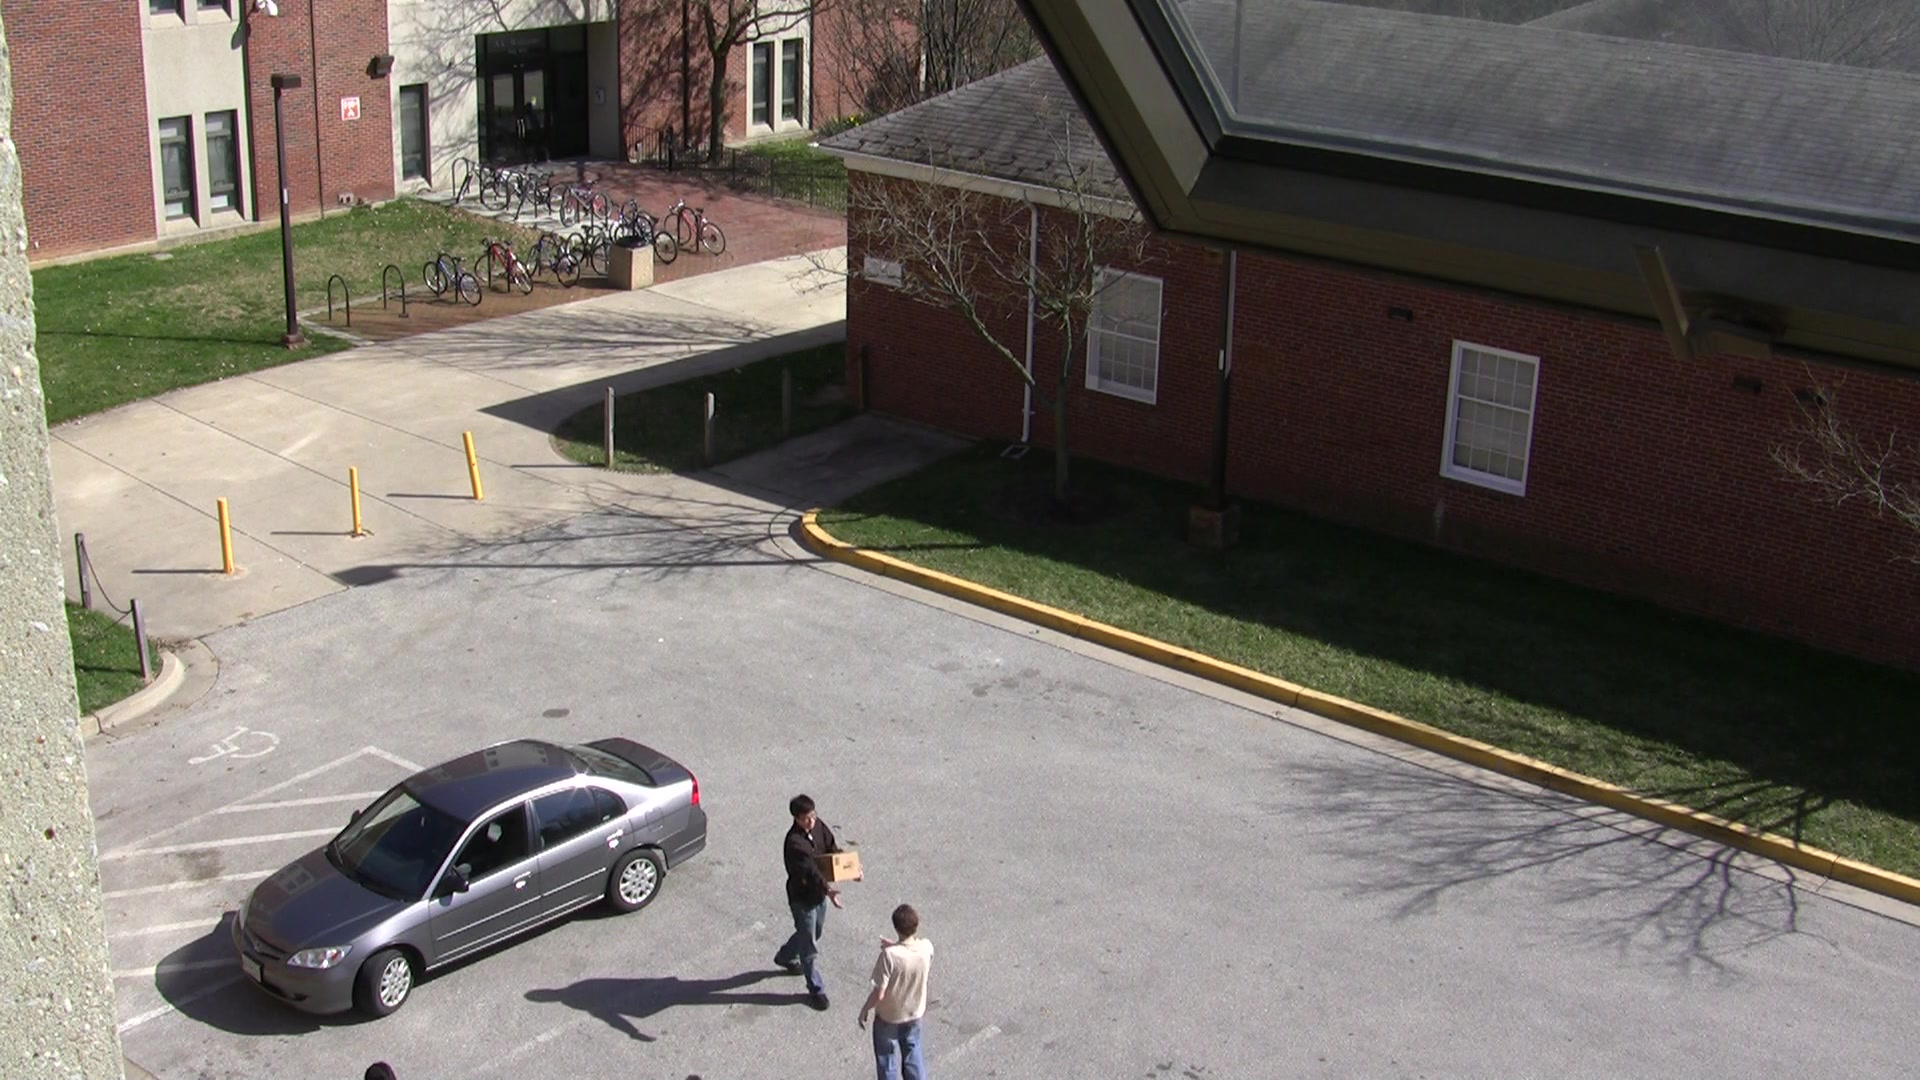person: (767, 786, 873, 1020), (858, 897, 942, 1080)
